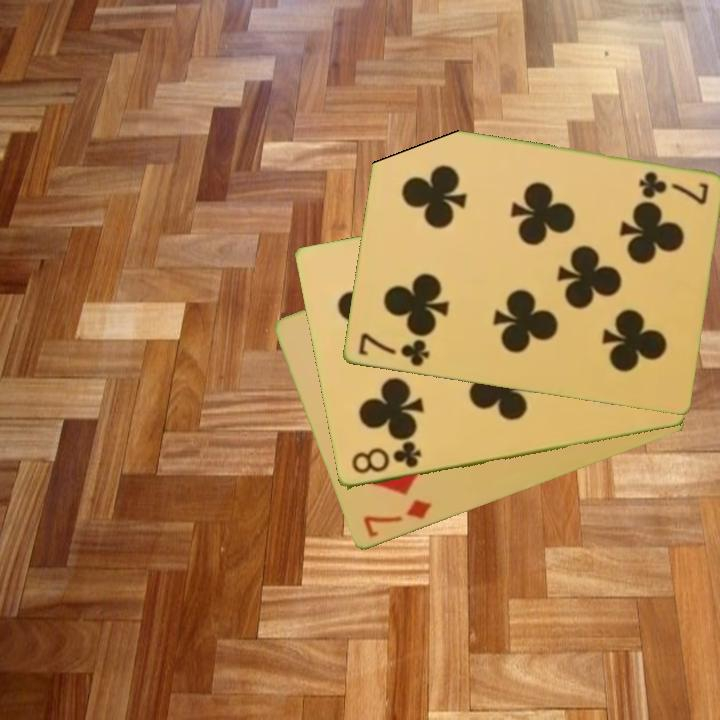7c: (354, 330, 432, 370), (634, 168, 711, 207)
7d: (359, 496, 435, 541)
8c: (348, 439, 424, 478)
